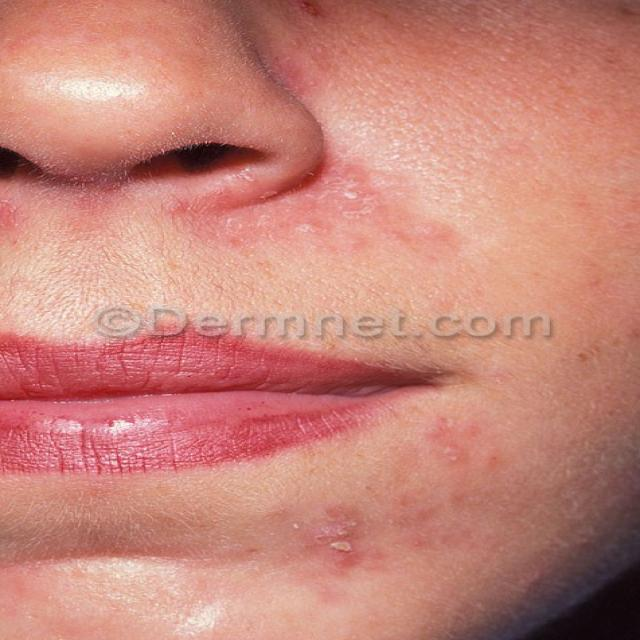acne: (278, 176, 396, 240), (294, 502, 392, 570)
